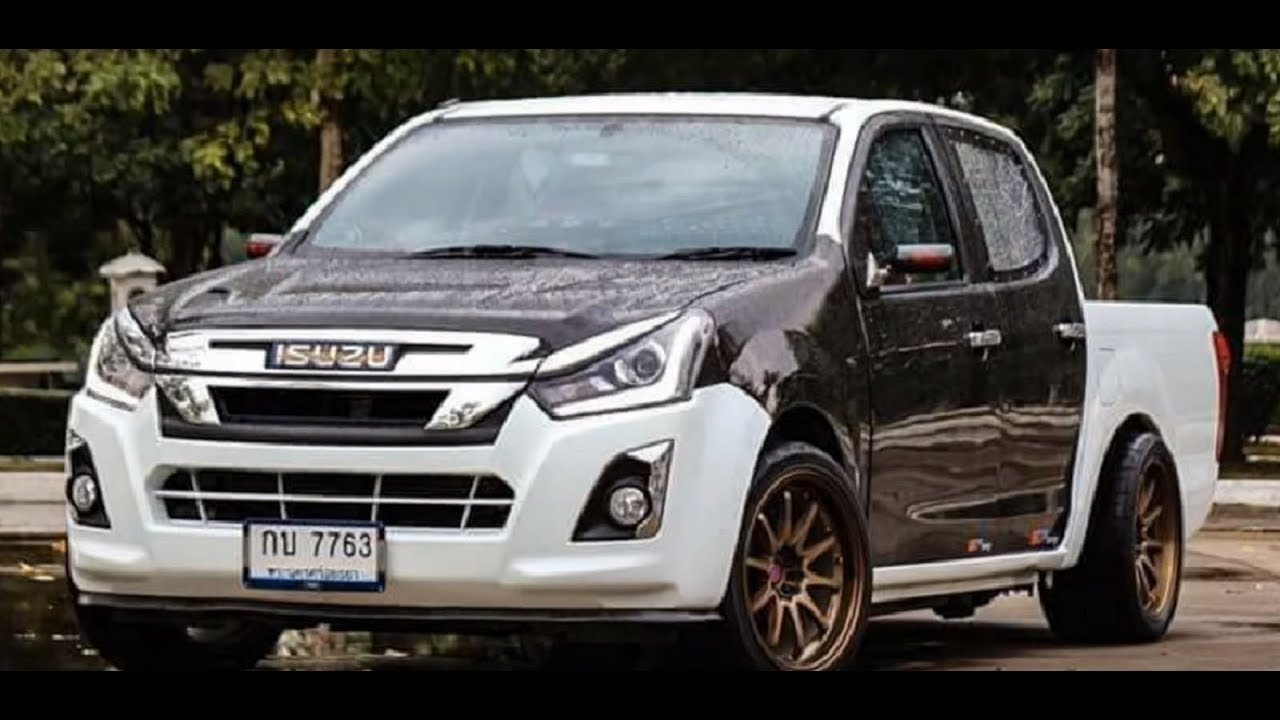pickup: (61, 93, 1226, 673)
